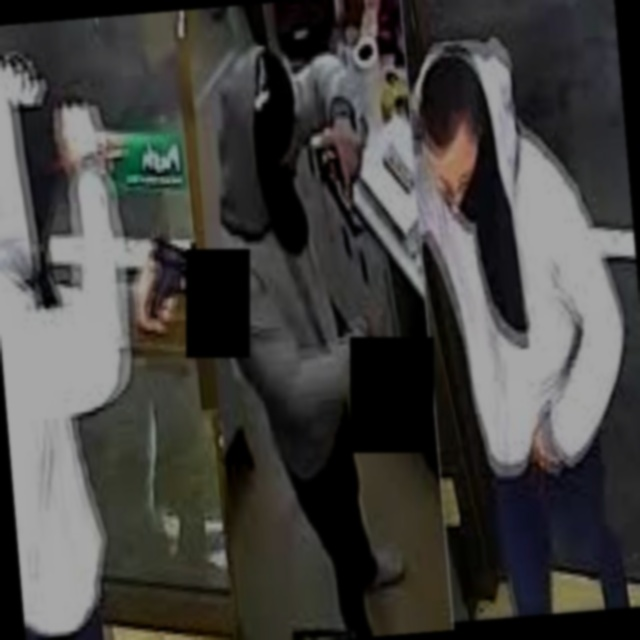gun: (132, 218, 211, 327), (318, 129, 373, 235)
